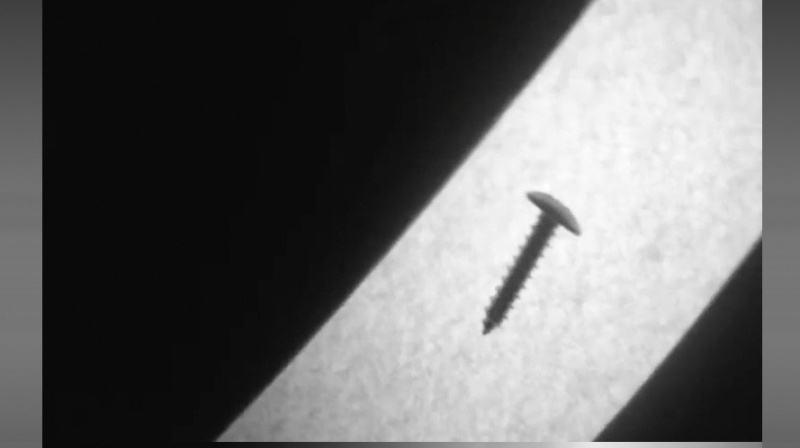S003: (478, 186, 583, 339)
